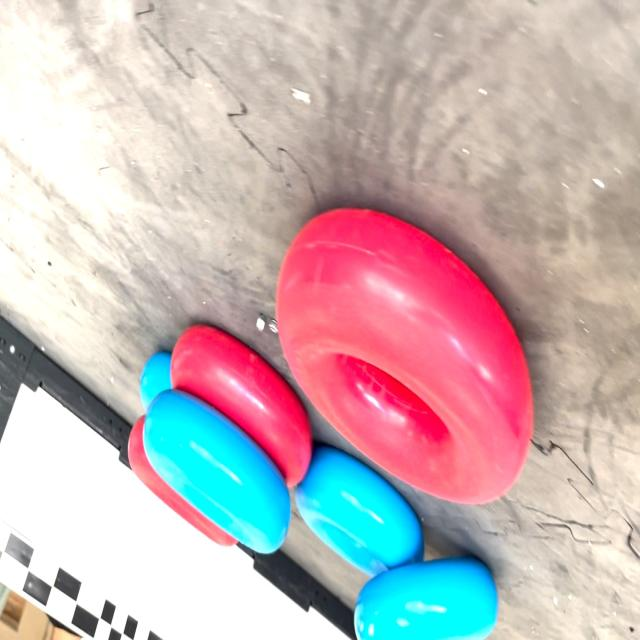Blue-Ring: (142, 389, 290, 553), (295, 447, 424, 576), (354, 558, 498, 639)
Red-Ring: (276, 209, 532, 504), (170, 324, 312, 487), (127, 415, 235, 552)
